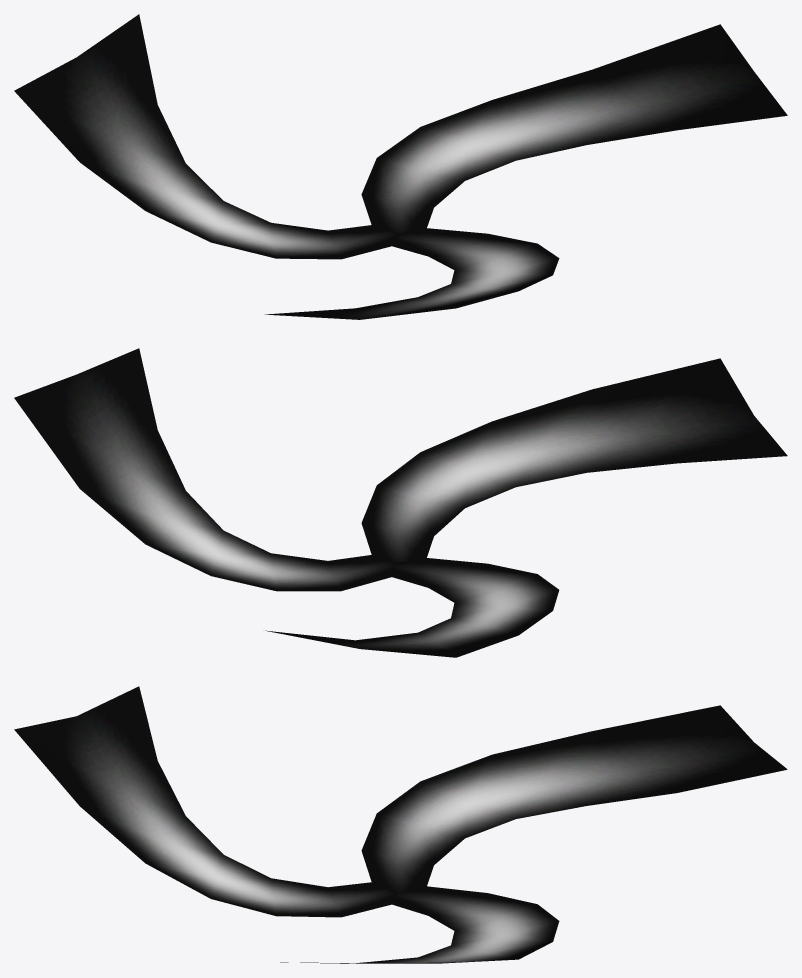
Rendered from vfx_kurp_0842.dae.
The picture shows the model from 3 angles, top to bottom: view 1: azimuth 30°, elevation 25°; view 2: azimuth 150°, elevation 25°; view 3: azimuth 270°, elevation 25°; orthographic projection.
Visible parts, largest first — view 1: vfx_kurp_0842; view 2: vfx_kurp_0842; view 3: vfx_kurp_0842.
Boxes of the visible parts, bbox=[...] form: vfx_kurp_0842: bbox=[14, 14, 787, 319]; vfx_kurp_0842: bbox=[14, 348, 787, 657]; vfx_kurp_0842: bbox=[14, 686, 787, 963].
Bounding box in the file's own units: 10.25 × 11.16 × 1.63.
1 material, 1 textured.
